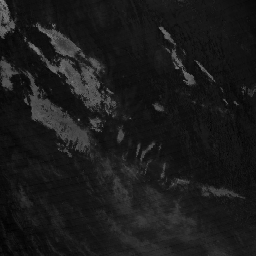Target: (76, 118, 81, 123)
